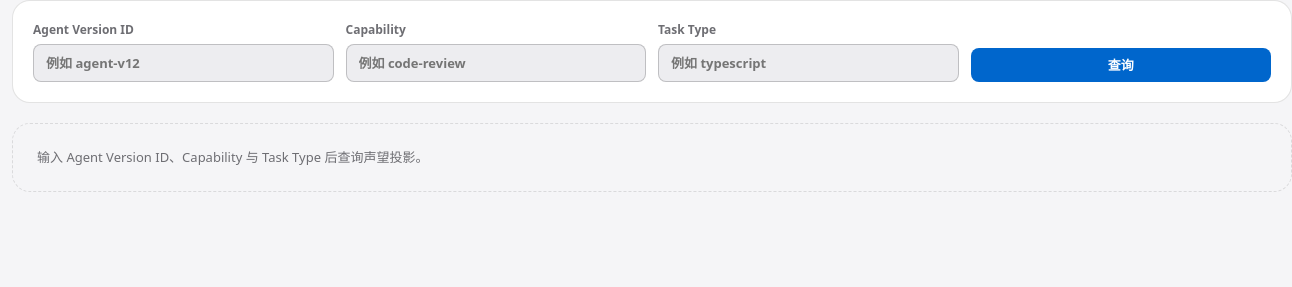
it: ReputationPage › submits user-entered filters and updates the URL
Type "agent-v2" into the field labelled "Agent Version ID" at (183, 63), box [33,44,334,82]
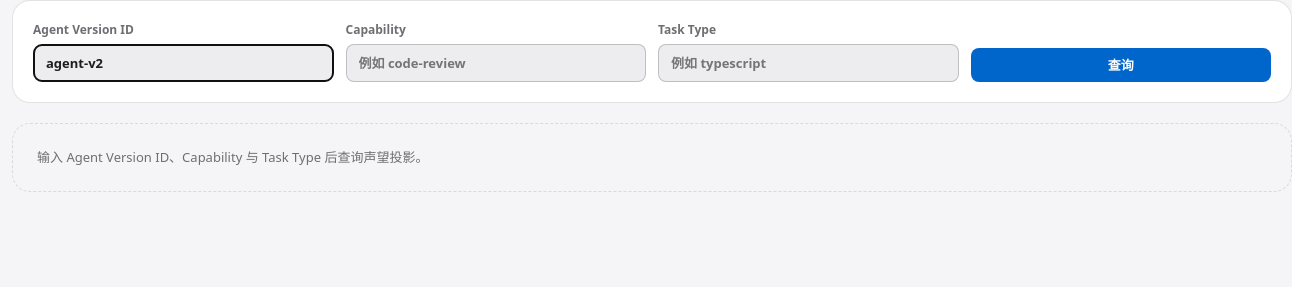
Type "code-review" into the field labelled "Capability" at (496, 63), box [346,44,646,82]
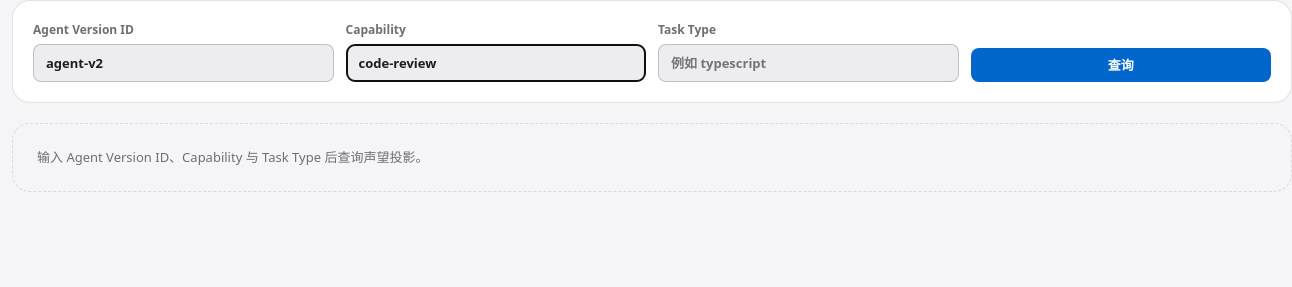
Type "go" into the field labelled "Task Type" at (808, 63), box [658,44,958,82]
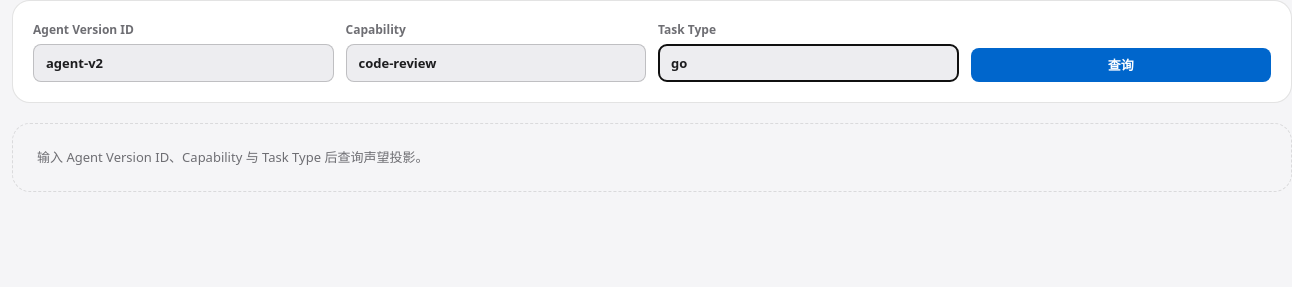
Click the button "查询" at (1121, 65), box [970,48,1271,82]
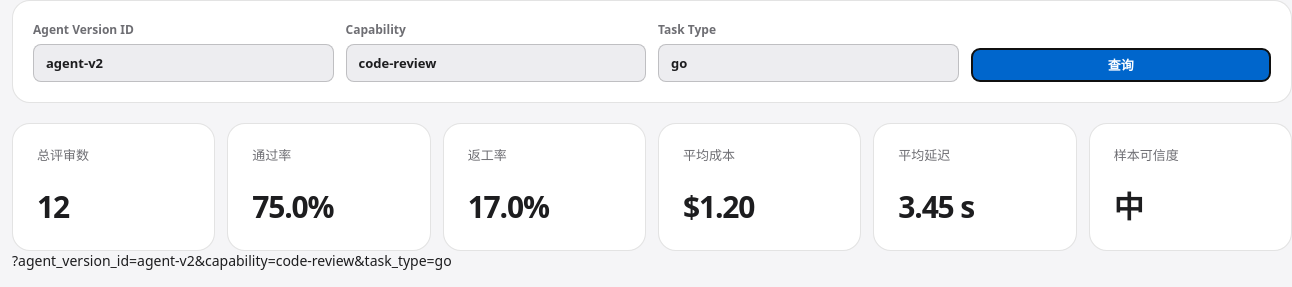
Result: the text with test id "location-search" reads "?agent_version_id=agent-v2&capability=code-review&task_type=go" at [12,251,452,270]
